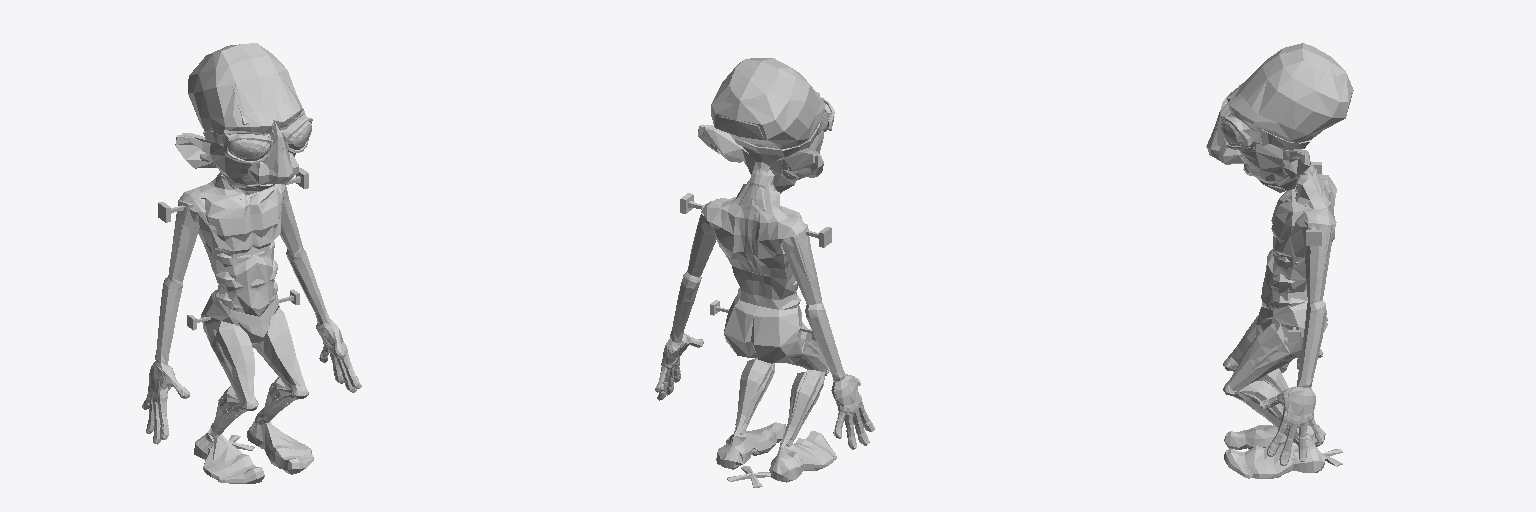
The model's file is pose0.obj.
The picture shows the model from 3 angles: view 1: azimuth 30°, elevation 25°; view 2: azimuth 150°, elevation 25°; view 3: azimuth 270°, elevation 25°; orthographic projection.
Parts seen in each view (by area): view 1: gPMXTRA PackageMan gGeo gGeometry, gPMXTRA gGeo gGeometry gLowRes lResChest, gPMXTRA gGeo gGeometry gLowRes lResHead, gVisualHelpers gHelpers gTR_XTRA gPMXTRA hShoulders; view 2: gPMXTRA PackageMan gGeo gGeometry, gPMXTRA gGeo gGeometry gLowRes lResHead, gPMXTRA gGeo gGeometry gLowRes lResCalfR, gPMXTRA gGeo gGeometry gLowRes lResCalfL, gVisualHelpers gHelpers gTR_XTRA gPMXTRA hShoulders; view 3: gPMXTRA PackageMan gGeo gGeometry, gPMXTRA gGeo gGeometry gLowRes lResHead, gPMXTRA gGeo gGeometry gLowRes lResChest.
Boxes of the visible parts, x1=… form: gPMXTRA PackageMan gGeo gGeometry: x1=142, y1=43, x2=361, y2=483; gPMXTRA gGeo gGeometry gLowRes lResChest: x1=199, y1=185, x2=281, y2=246; gPMXTRA gGeo gGeometry gLowRes lResHead: x1=182, y1=43, x2=297, y2=195; gVisualHelpers gHelpers gTR_XTRA gPMXTRA hShoulders: x1=158, y1=168, x2=308, y2=222; gPMXTRA PackageMan gGeo gGeometry: x1=655, y1=58, x2=874, y2=482; gPMXTRA gGeo gGeometry gLowRes lResHead: x1=703, y1=59, x2=819, y2=193; gPMXTRA gGeo gGeometry gLowRes lResCalfR: x1=780, y1=370, x2=824, y2=446; gPMXTRA gGeo gGeometry gLowRes lResCalfL: x1=734, y1=360, x2=773, y2=434; gVisualHelpers gHelpers gTR_XTRA gPMXTRA hShoulders: x1=680, y1=193, x2=831, y2=247; gPMXTRA PackageMan gGeo gGeometry: x1=1206, y1=43, x2=1351, y2=478; gPMXTRA gGeo gGeometry gLowRes lResHead: x1=1208, y1=43, x2=1353, y2=192; gPMXTRA gGeo gGeometry gLowRes lResChest: x1=1271, y1=185, x2=1305, y2=257.
Size of the model in its own units: 9.95 by 19.11 by 6.23.